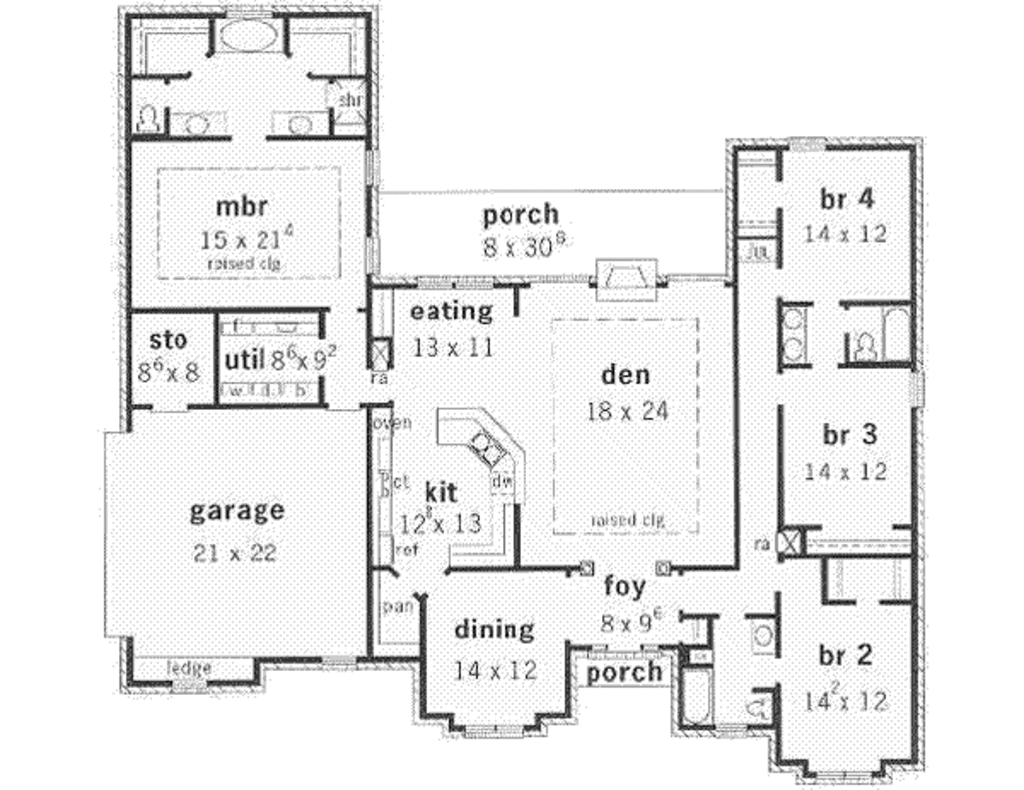kitchen_bar: (434, 405, 528, 501)
large_sink: (132, 101, 166, 139), (846, 328, 878, 365), (742, 692, 775, 722)
small_sink: (267, 106, 333, 139), (782, 300, 815, 366), (166, 112, 231, 141), (748, 614, 780, 657)
tub: (207, 15, 289, 58), (681, 662, 715, 731), (878, 302, 911, 366)
window: (406, 269, 503, 292), (458, 721, 532, 742), (810, 769, 871, 787), (164, 674, 210, 697), (784, 134, 831, 156), (319, 650, 362, 674)
